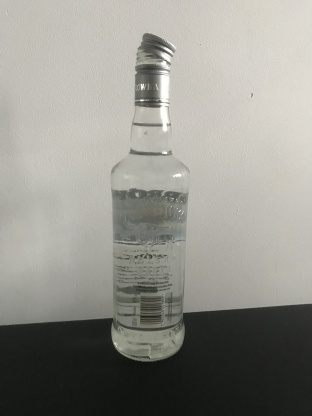nakretka: (133, 29, 177, 107)
